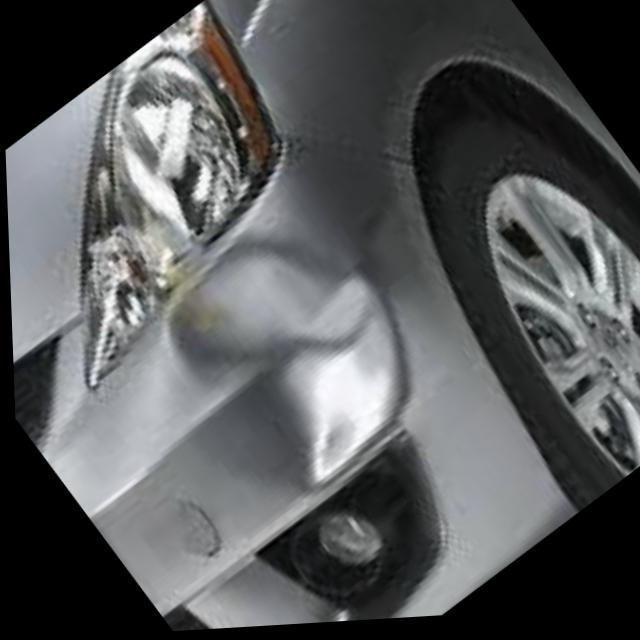dent: (163, 215, 423, 503)
scratch: (173, 494, 230, 563)
